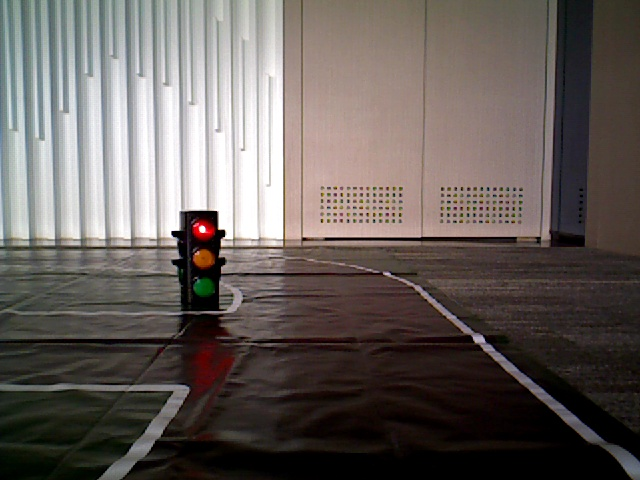red: (182, 211, 220, 303)
